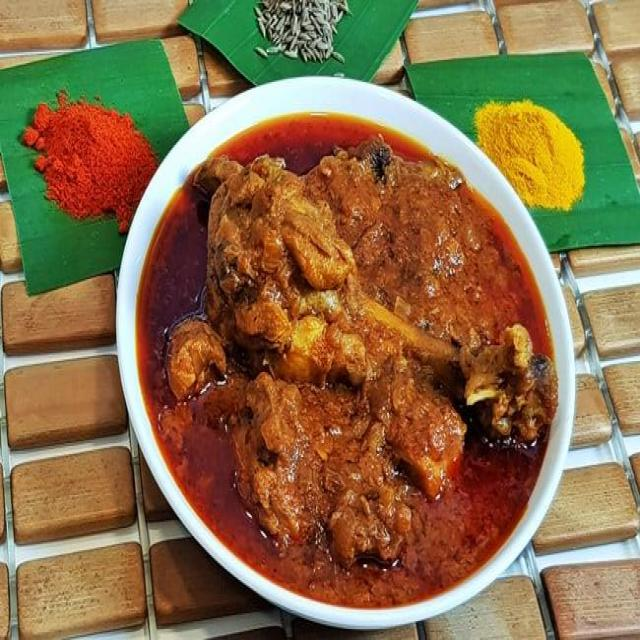chicken: (150, 108, 556, 599)
